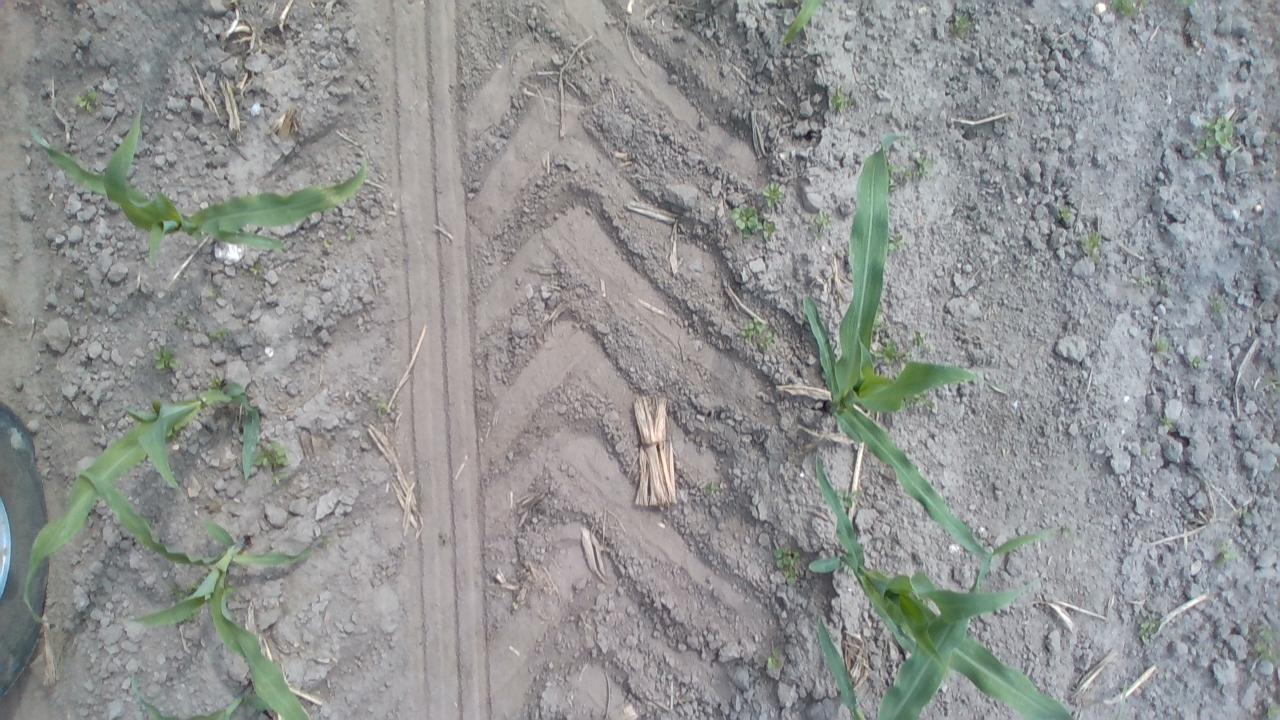Maize: (803, 132, 1001, 565), (806, 449, 1084, 720), (69, 457, 329, 720), (19, 376, 270, 644), (26, 93, 370, 272), (801, 523, 1055, 720), (117, 678, 309, 720), (774, 1, 830, 58)
Weeds: (868, 324, 936, 366), (1184, 113, 1238, 157), (884, 154, 940, 190), (736, 313, 781, 354), (727, 206, 773, 244), (770, 543, 804, 590), (249, 445, 296, 478), (894, 390, 942, 422), (942, 7, 981, 46), (1250, 620, 1280, 670), (1129, 610, 1166, 650), (1074, 230, 1110, 268), (826, 85, 866, 115), (760, 636, 790, 676), (832, 483, 873, 512), (1053, 198, 1086, 234), (68, 84, 100, 120), (1102, 0, 1156, 20), (149, 344, 182, 374), (204, 322, 239, 350), (372, 399, 404, 429), (170, 309, 202, 337), (1205, 293, 1234, 323), (762, 179, 792, 207), (1227, 499, 1257, 527), (1149, 332, 1181, 358), (241, 260, 278, 282), (205, 284, 235, 310), (1214, 545, 1240, 575), (810, 205, 834, 236), (886, 230, 910, 260), (1188, 351, 1216, 376), (1132, 263, 1154, 293), (1132, 443, 1158, 468), (1152, 412, 1181, 434), (700, 478, 724, 502), (338, 222, 358, 244), (1259, 700, 1280, 720), (208, 373, 230, 392)
